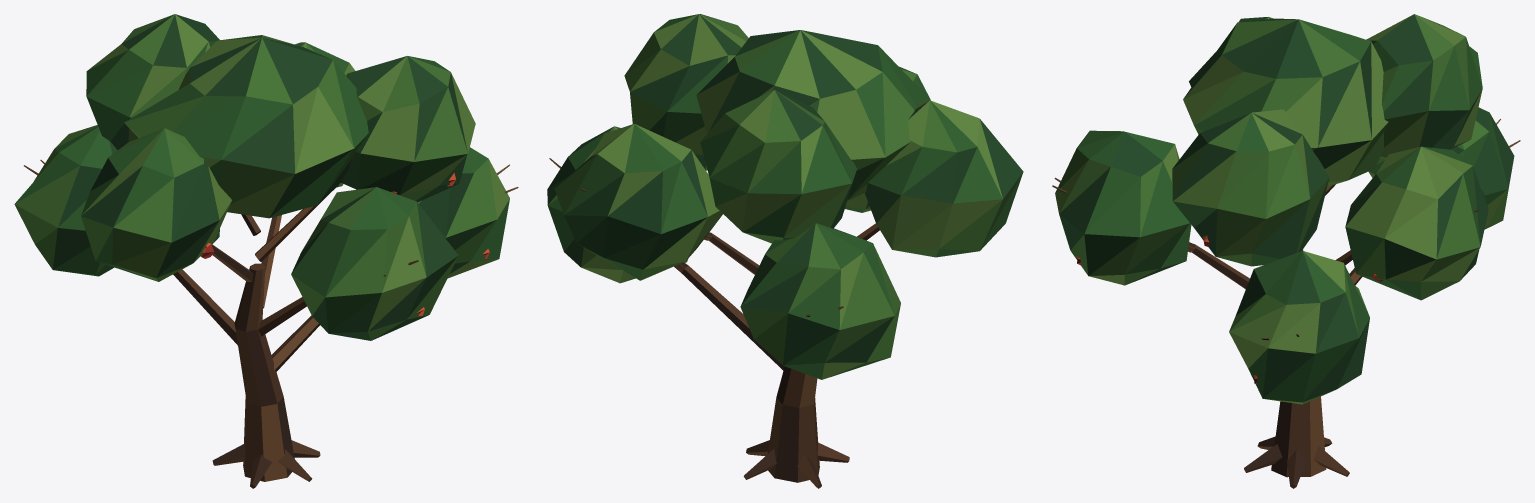
File: tree_apple_green.obj
The picture shows the model from 3 angles, left to right: view 1: azimuth 30°, elevation 25°; view 2: azimuth 150°, elevation 25°; view 3: azimuth 270°, elevation 25°; orthographic projection. The views are drawn at different scales.
Visible parts, largest first — view 1: tree_apple_green; view 2: tree_apple_green; view 3: tree_apple_green.
Part boxes in pixels (box(x1,y1,x2,y2)): tree_apple_green: box(14, 14, 518, 488); tree_apple_green: box(547, 14, 1023, 488); tree_apple_green: box(1052, 14, 1520, 488).
Bounding box in the file's own units: 273 × 260 × 247.
1 material, 1 textured.
